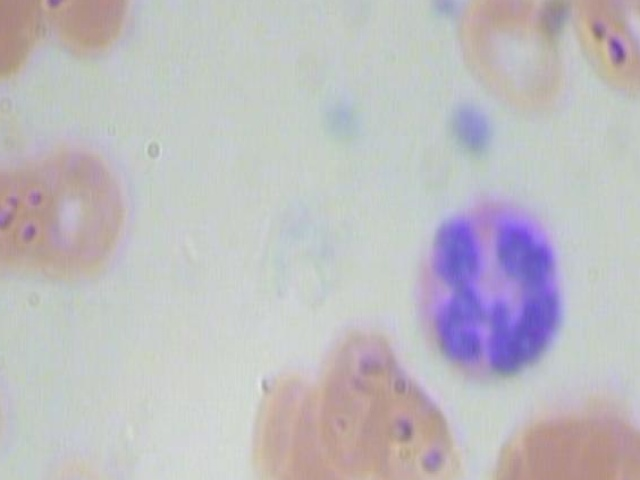Platelets: (442, 99, 493, 158)
RBC: (20, 120, 131, 285), (448, 0, 577, 122), (343, 368, 473, 480), (244, 360, 344, 480), (19, 0, 138, 60), (27, 444, 128, 480), (0, 0, 35, 80)
WBC: (409, 185, 572, 389)
